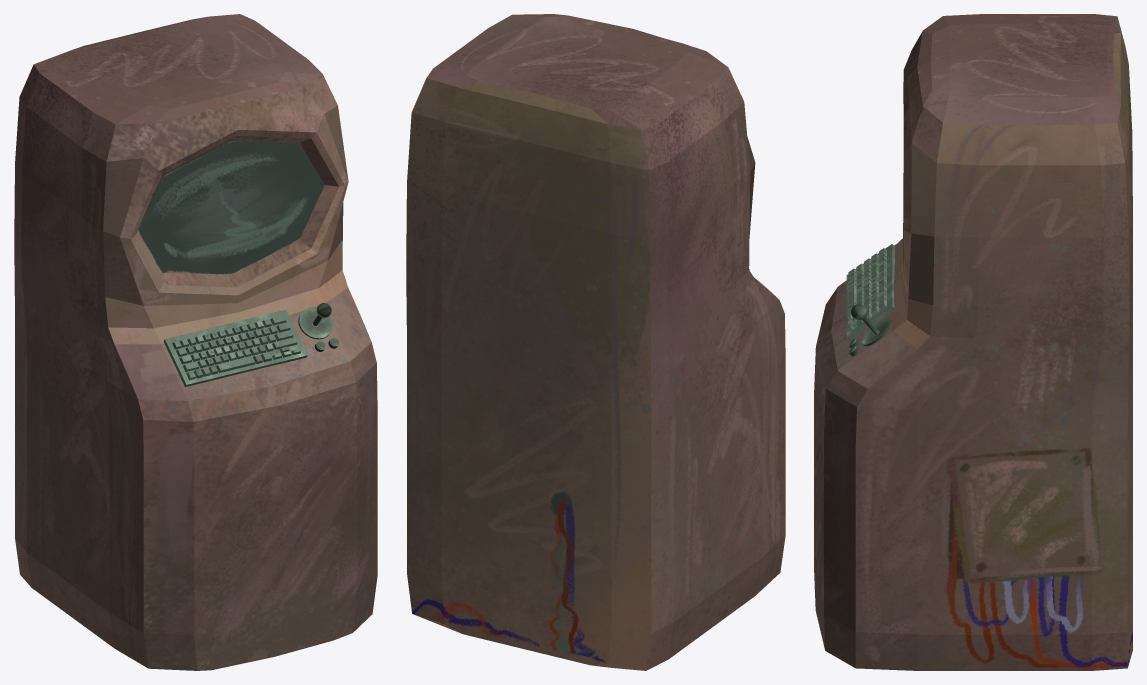
File: puter.glb
3 views of the same model, side by side, from view 1: azimuth 30°, elevation 25°; view 2: azimuth 150°, elevation 25°; view 3: azimuth 270°, elevation 25° (orthographic). The views are drawn at different scales.
Visible parts, largest first — view 1: oputer-col; view 2: oputer-col; view 3: oputer-col.
Boxes of the visible parts, x1,y1,x2,y2 form: oputer-col: (14,14,377,670); oputer-col: (406,14,785,670); oputer-col: (814,14,1132,670).
Size of the model in its own units: 0.7947 by 1.64 by 0.8505.
3 materials, 3 textured.
